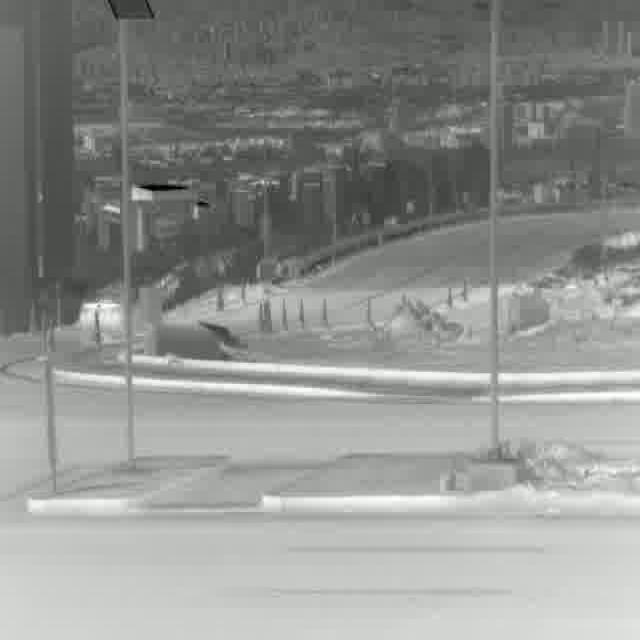Car: (78, 283, 158, 345)
